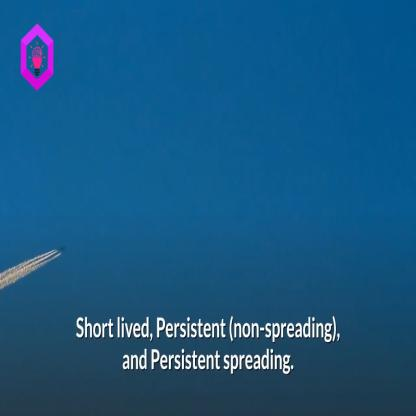plane: (53, 244, 69, 258)
